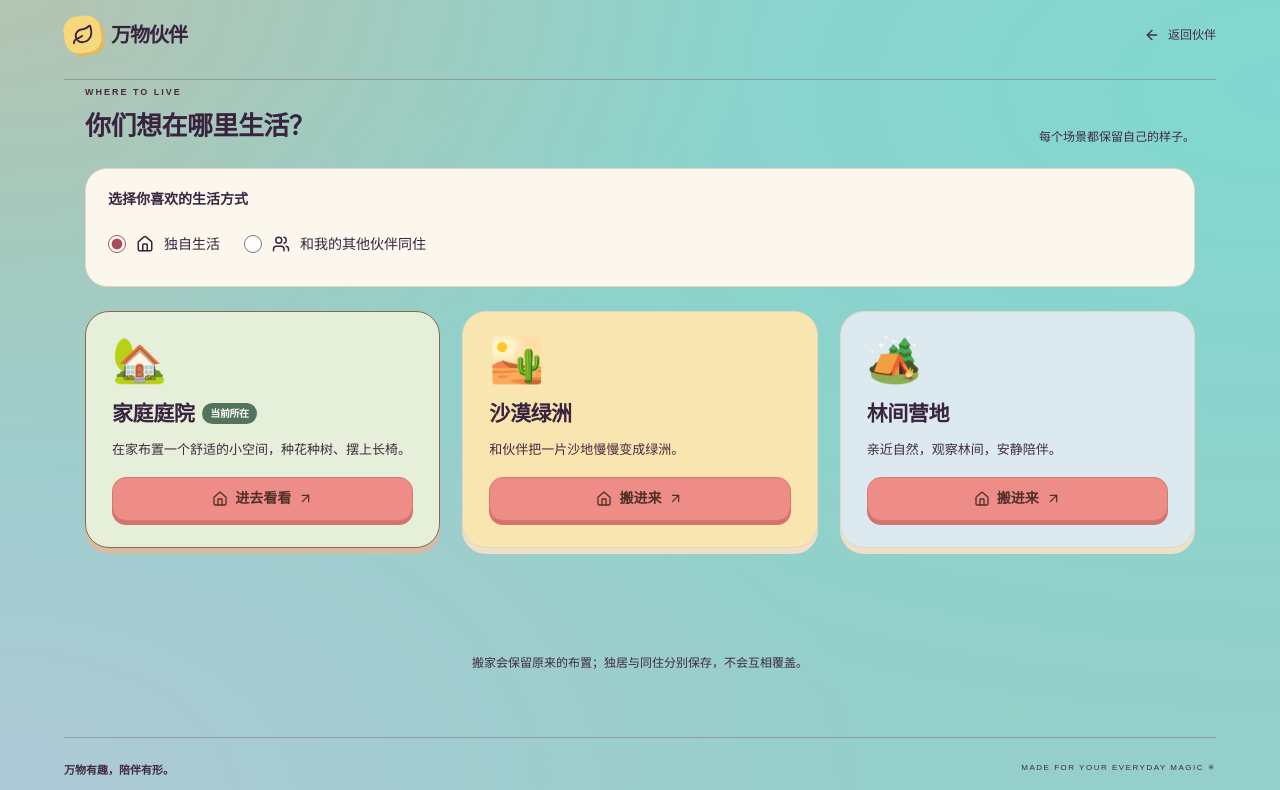
Test case: adds only ready account companions, distinguishes duplicate names, and does not move invitees
Step 1. Click the radio button labelled "和我的其他伙伴同住" → x=253, y=244, box left=244, top=235, right=262, bottom=253
(page scrolled)
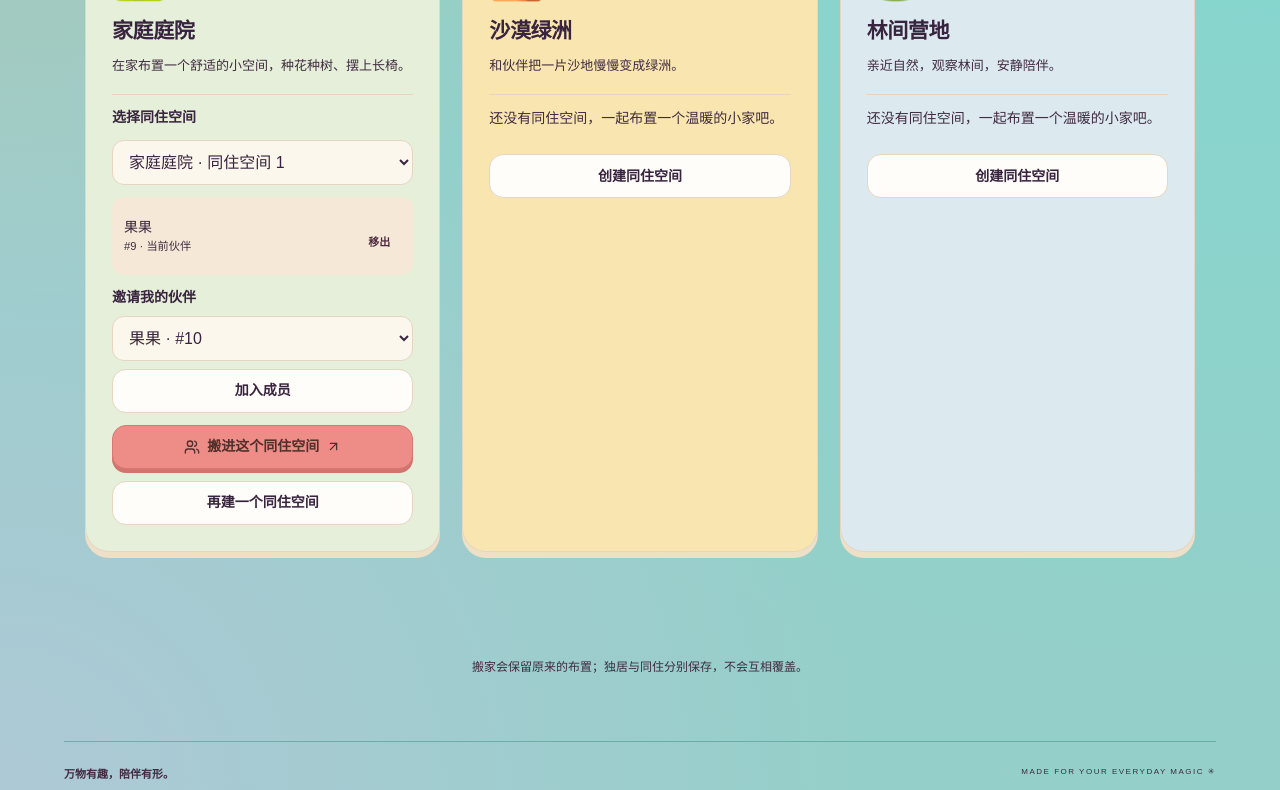
Step 2. Click the button "加入成员" → x=263, y=391, box left=112, top=369, right=413, bottom=413
(page scrolled)
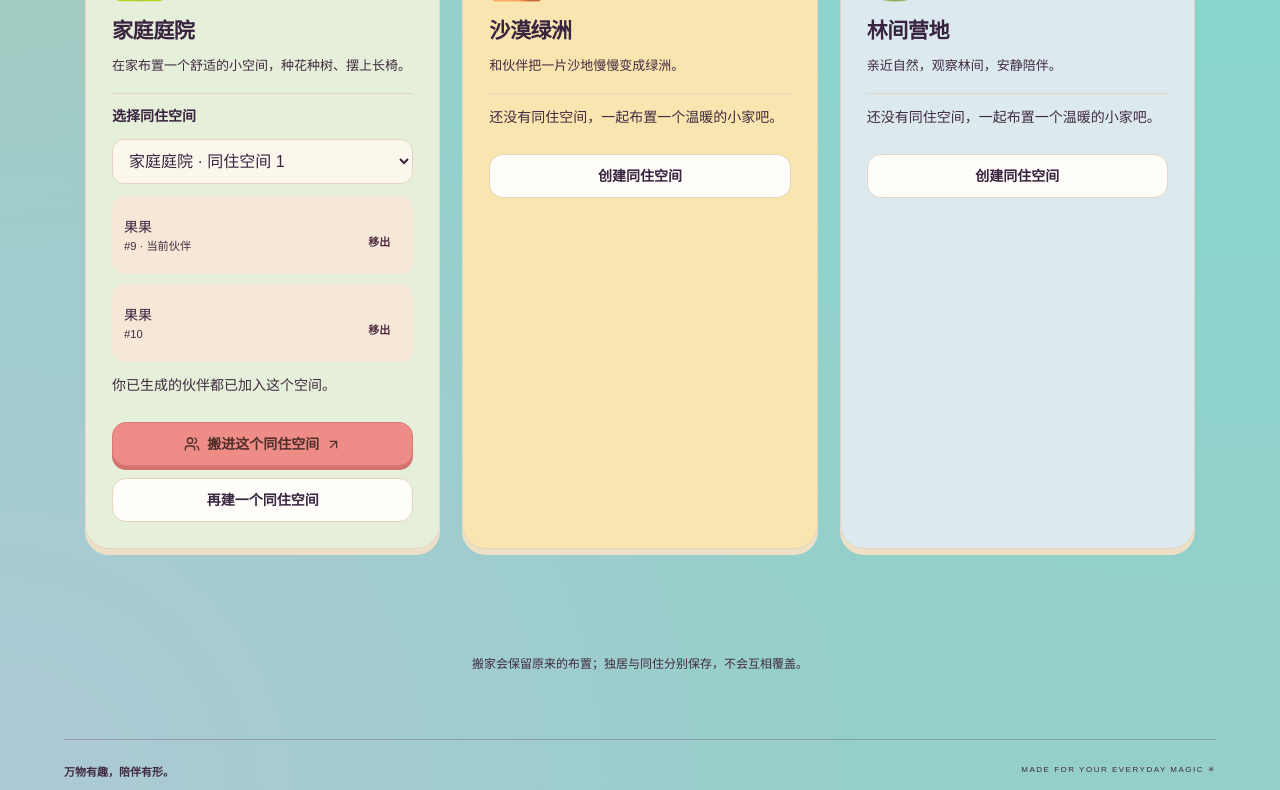
Expected: the button with aria-label "移出果果 #10" is shown, left=357, top=308, right=401, bottom=352
